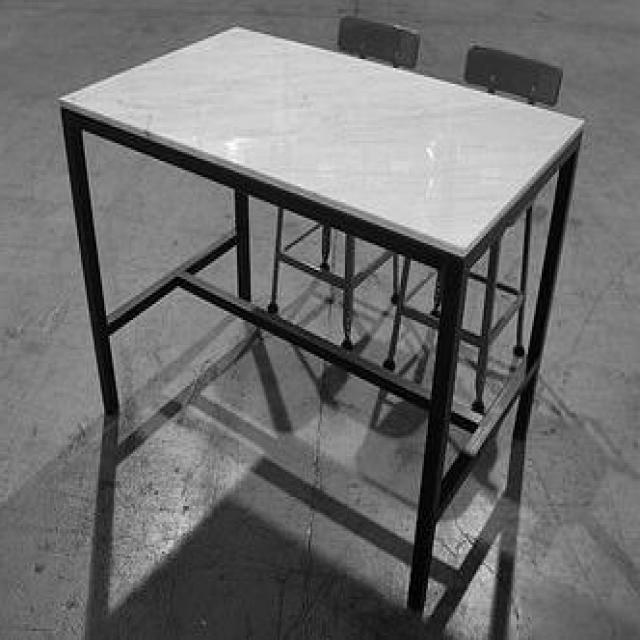chair: (378, 44, 566, 413), (262, 12, 424, 350)
table: (56, 33, 582, 606)
